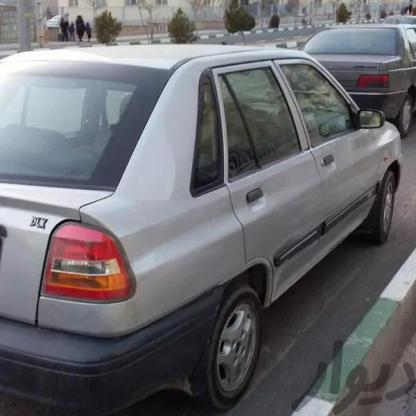Car: (0, 33, 381, 416), (308, 0, 416, 157)
